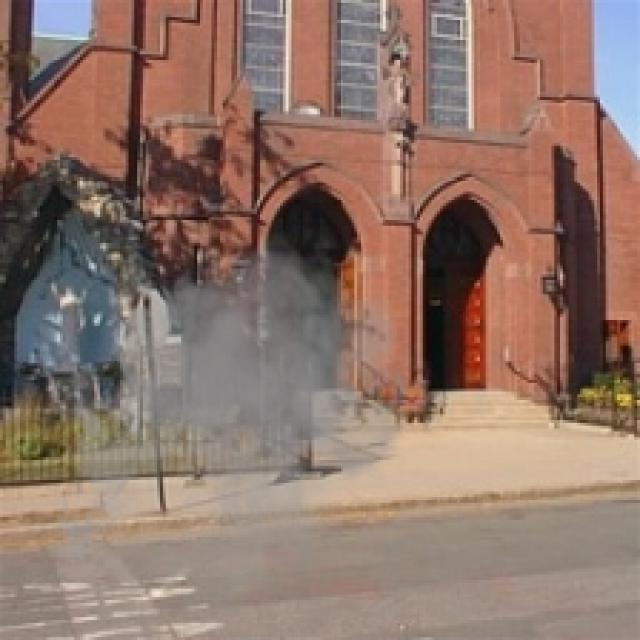smoke: (46, 220, 434, 629)
